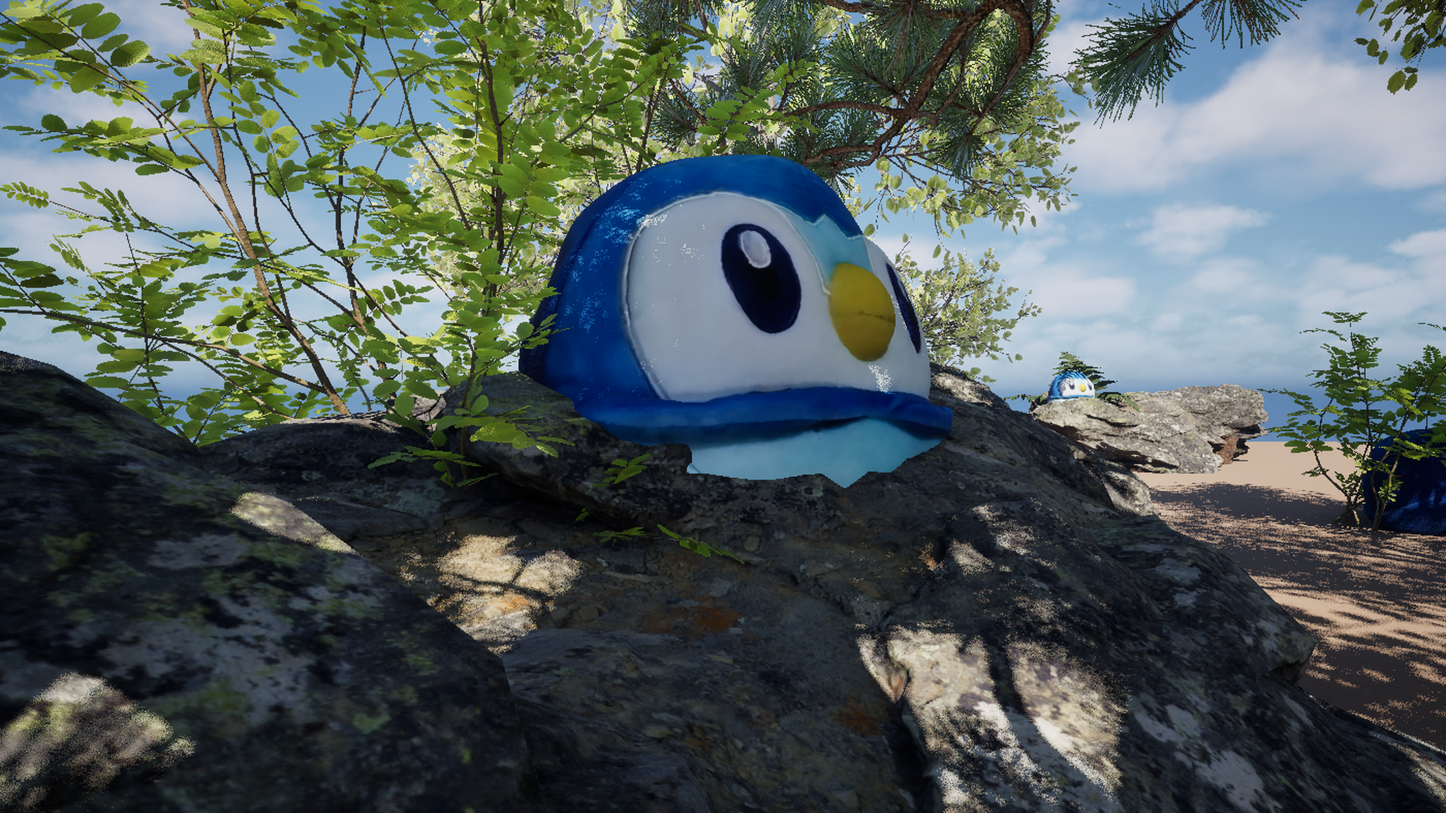Piplup: (143, 0, 1244, 813)
